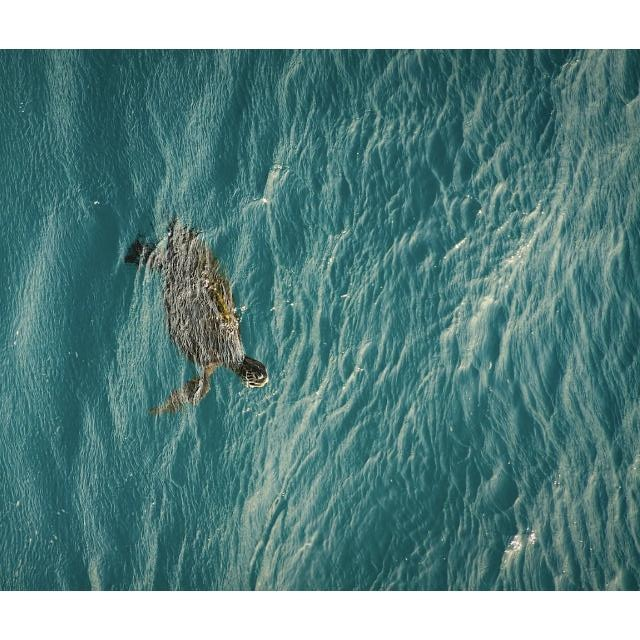turtle: (122, 213, 270, 417)
